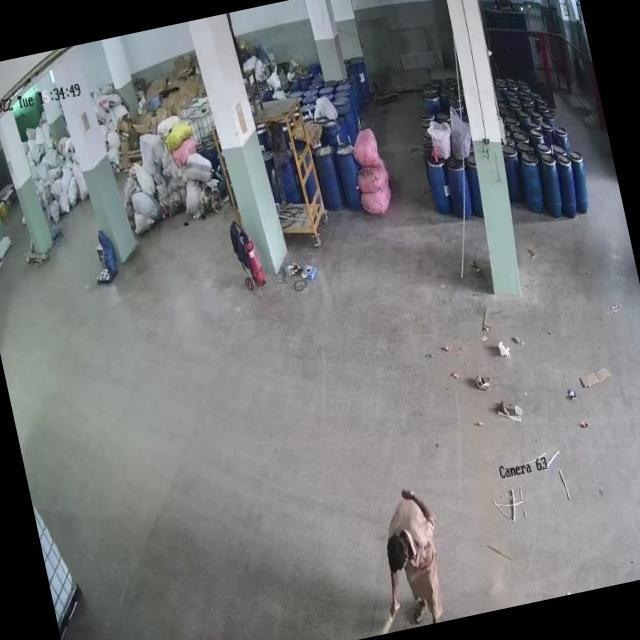person: (374, 489, 454, 626)
